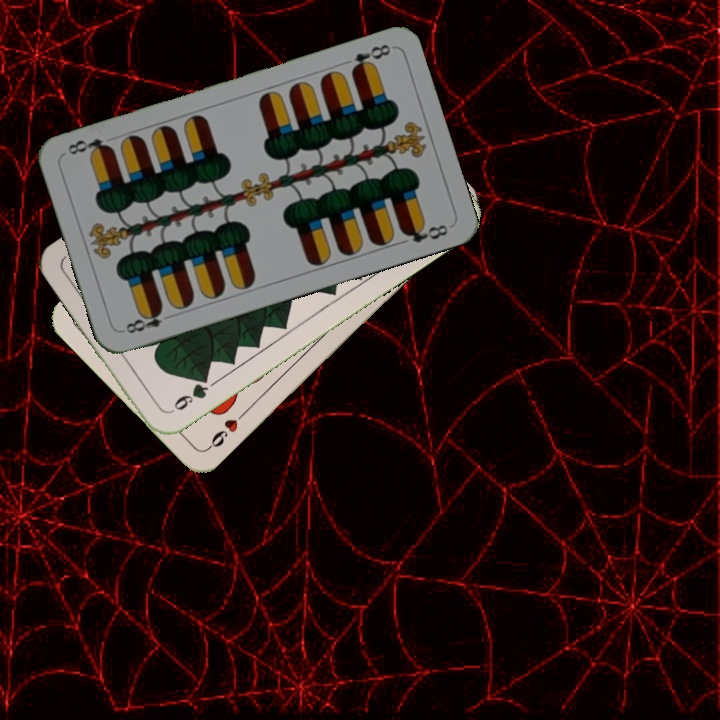E8: (118, 304, 176, 336), (347, 40, 394, 76)
G9: (165, 371, 212, 416)
H9: (203, 406, 249, 452)
